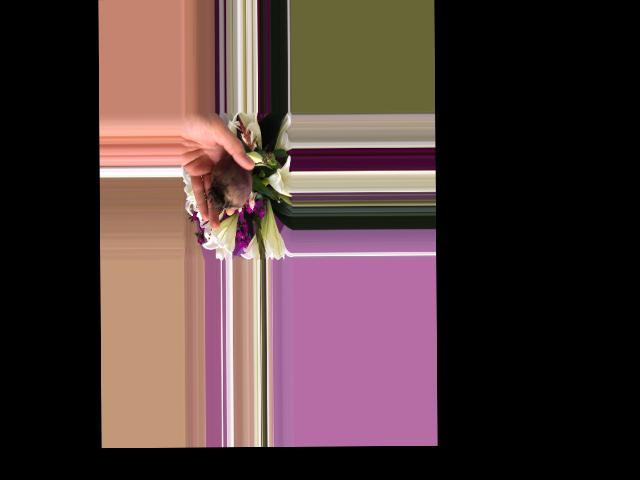beet: (209, 155, 272, 211)
